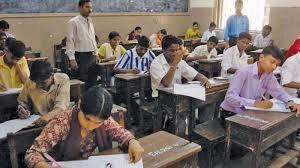invigilator: (73, 2, 103, 85), (223, 1, 251, 43)
student: (46, 85, 130, 162), (228, 43, 298, 120), (13, 57, 92, 120), (149, 31, 202, 99), (121, 25, 167, 83), (195, 33, 226, 60)
